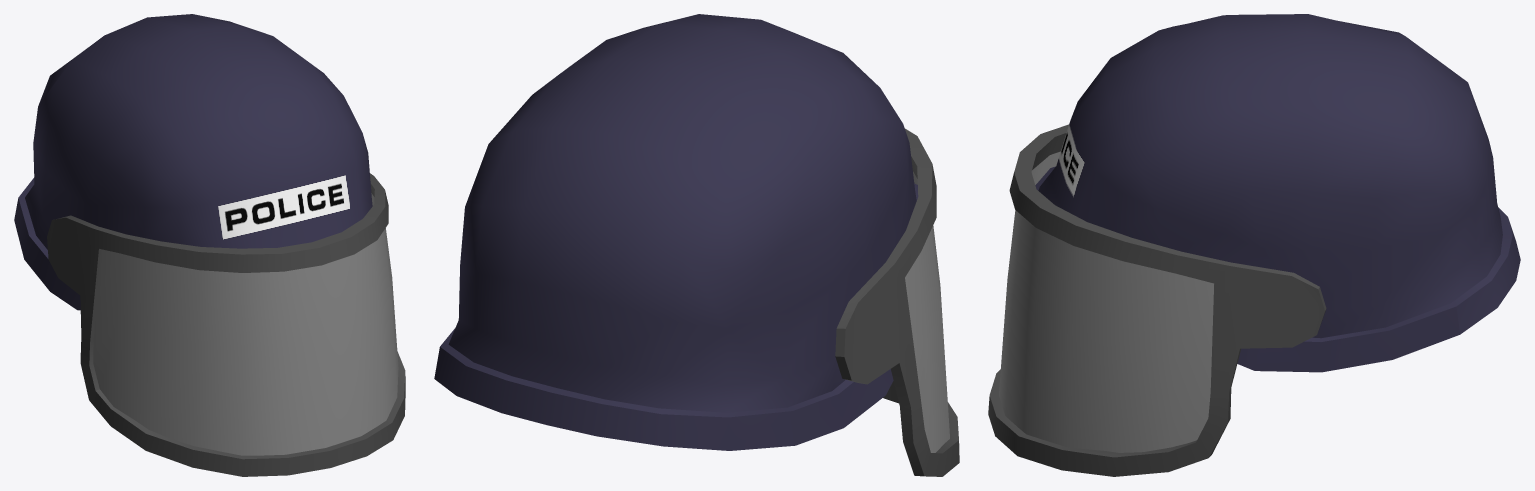
Rendered from Helmet.FBX.
The picture shows the model from 3 angles, left to right: view 1: azimuth 30°, elevation 25°; view 2: azimuth 150°, elevation 25°; view 3: azimuth 270°, elevation 25°; orthographic projection. The views are drawn at different scales.
Visible parts, largest first — view 1: helmet protector, helmet; view 2: helmet, helmet protector; view 3: helmet, helmet protector.
Boxes of the visible parts, left/top/right/bottom form: helmet protector: left=47, top=173, right=405, bottom=476; helmet: left=14, top=14, right=372, bottom=310; helmet: left=434, top=14, right=918, bottom=450; helmet protector: left=835, top=128, right=959, bottom=476; helmet: left=1035, top=14, right=1520, bottom=372; helmet protector: left=988, top=124, right=1326, bottom=476.
Bounding box in the file's own units: 23.79 × 26.16 × 33.03.
Materials: 3 (1 with a texture image).
